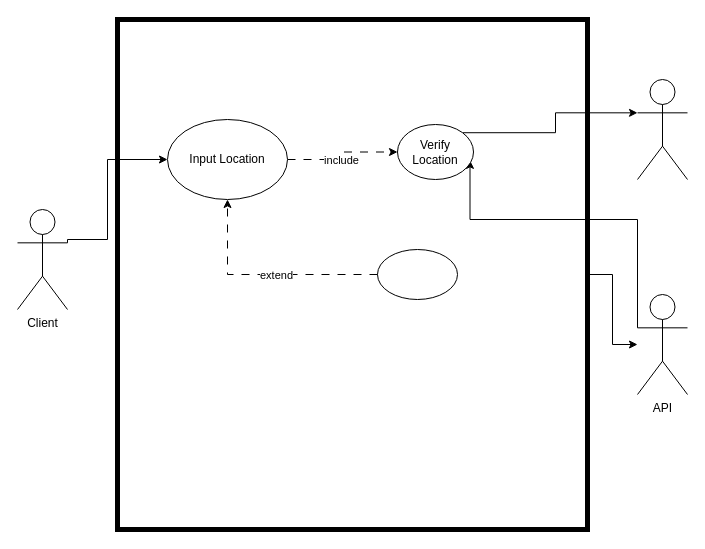
Some shapes in this 705 by 549 pixel diagram are drawn without their labels. Here are the shapes that lost their labels. From the top down, the centre of each, then its label:
the point at 662,129: Database
the point at 417,274: Error
